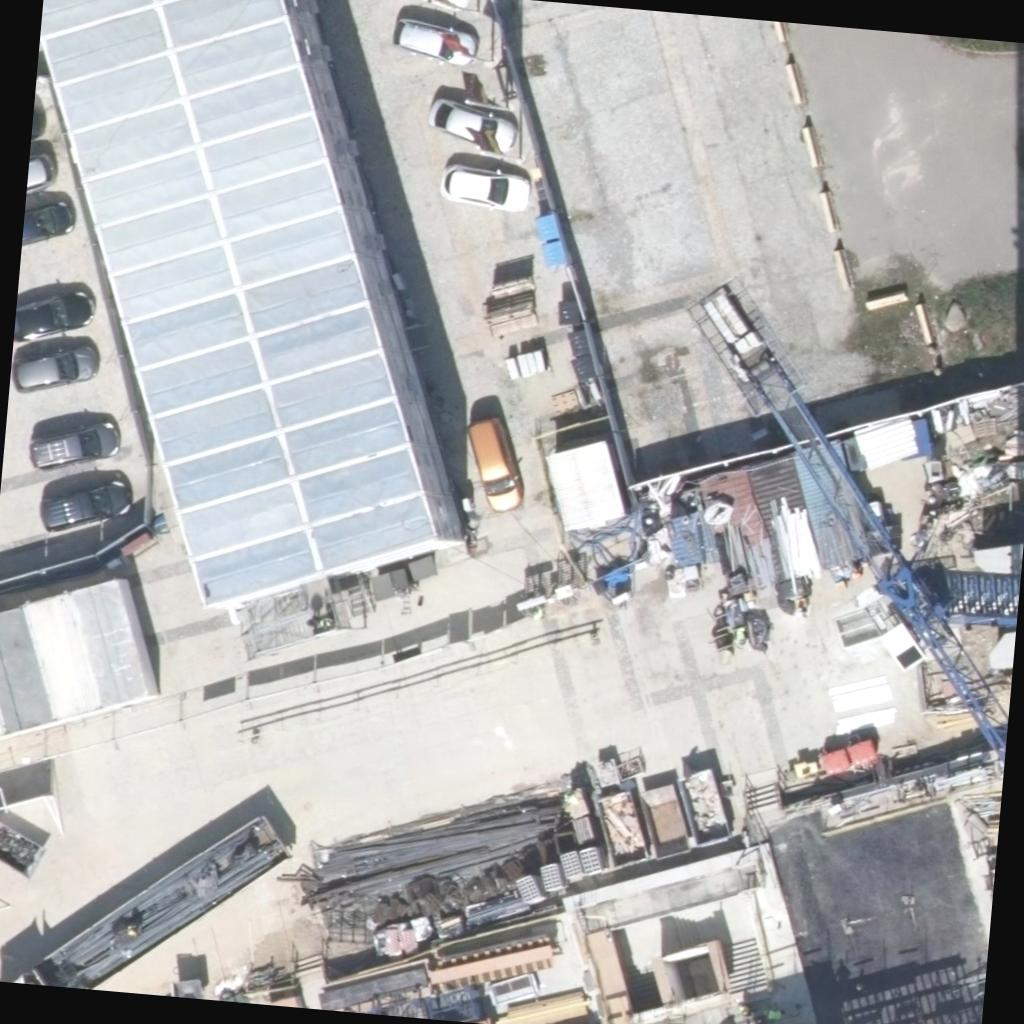samochod_osobowy: (461, 414, 529, 513), (40, 474, 132, 536), (12, 334, 100, 397), (426, 96, 518, 154), (28, 416, 120, 474), (440, 154, 530, 212), (391, 7, 478, 66), (14, 286, 94, 347), (22, 196, 74, 248), (26, 154, 54, 194)
zuraw_wiezowy: (639, 276, 1024, 753)
